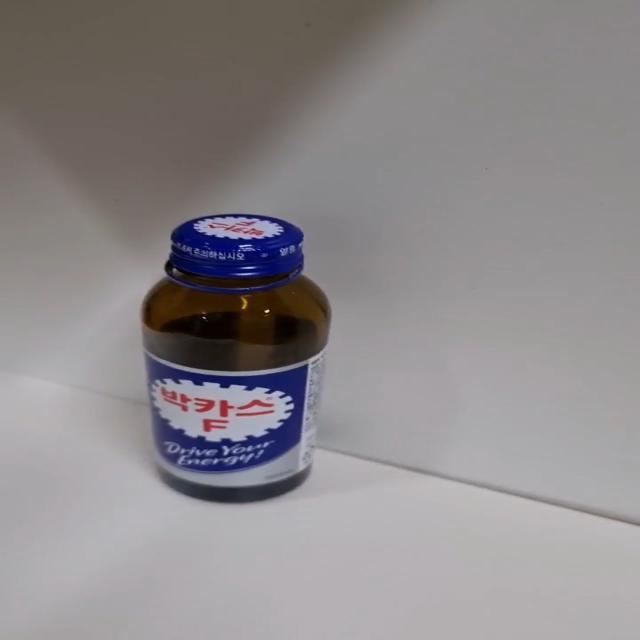Glass: (139, 214, 333, 506)
